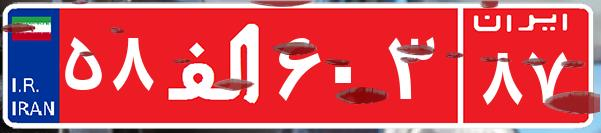0: (330, 28, 385, 110)
3: (385, 28, 445, 110)
5: (57, 26, 110, 107)
6: (273, 28, 330, 110)
7: (525, 38, 570, 115)
8: (475, 38, 525, 113), (110, 28, 158, 105)
الف: (158, 15, 273, 115)
